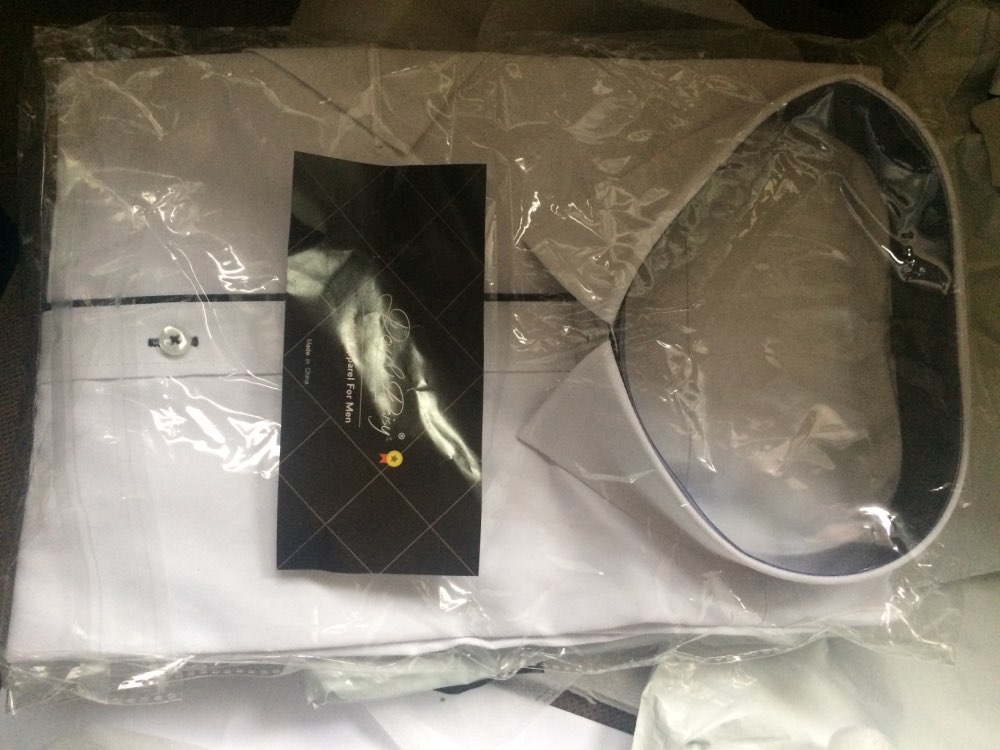shirts: (33, 52, 927, 654)
